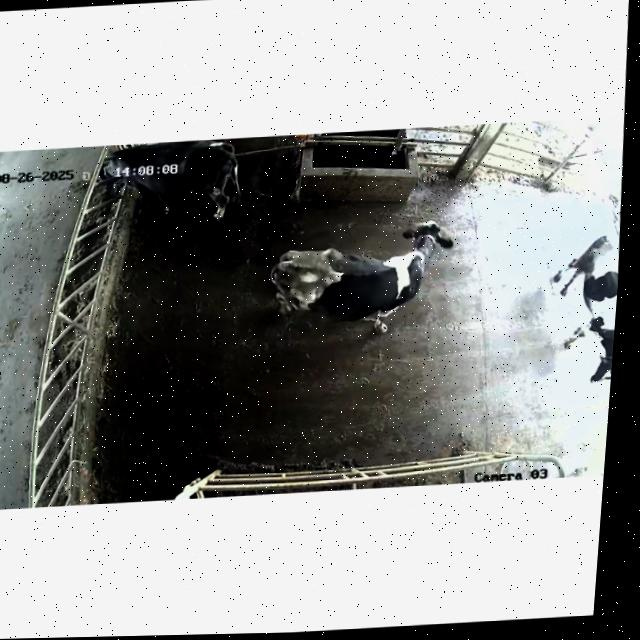stand: (245, 201, 473, 342), (530, 214, 623, 402)
